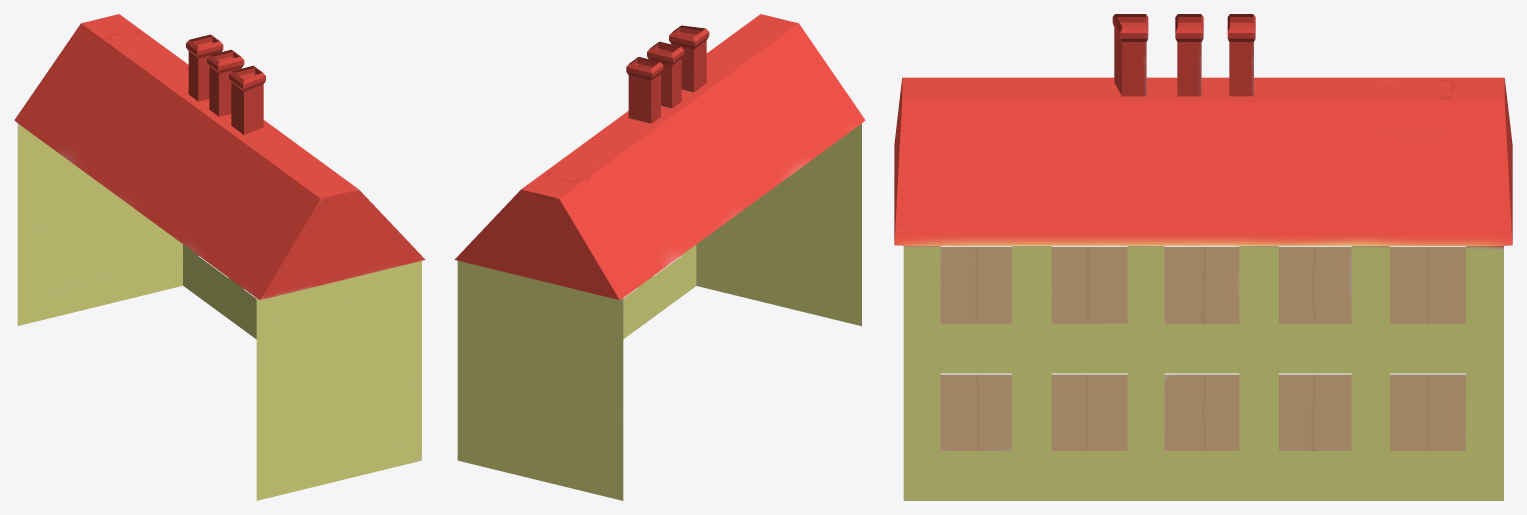
The model's file is House3z.fbx.
The picture shows the model from 3 angles, left to right: view 1: azimuth 30°, elevation 25°; view 2: azimuth 150°, elevation 25°; view 3: azimuth 270°, elevation 25°; orthographic projection. The views are drawn at different scales.
Parts seen in each view (by area): view 1: Cube; view 2: Cube; view 3: Cube.
Part boxes in pixels (x1,y1,x2,y2): Cube: (14,14,425,500); Cube: (454,14,865,500); Cube: (894,14,1512,500).
Bounding box in the file's own units: 810 × 1580 × 2059.
